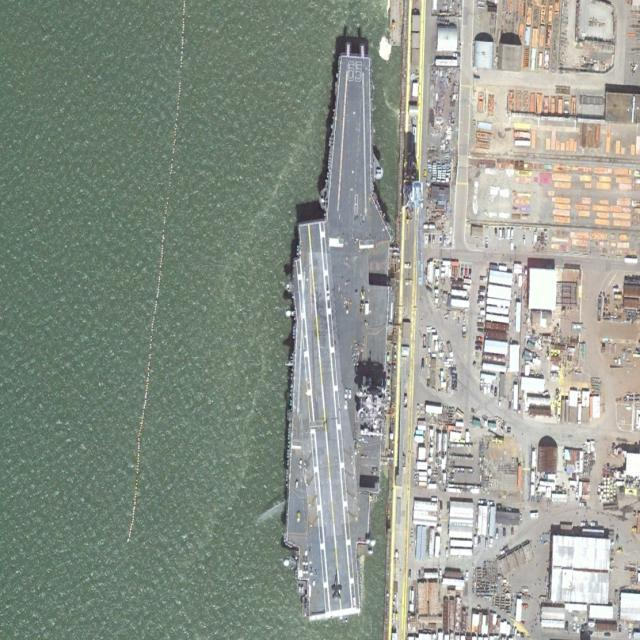Aircraft Carrier: (277, 39, 405, 628)
